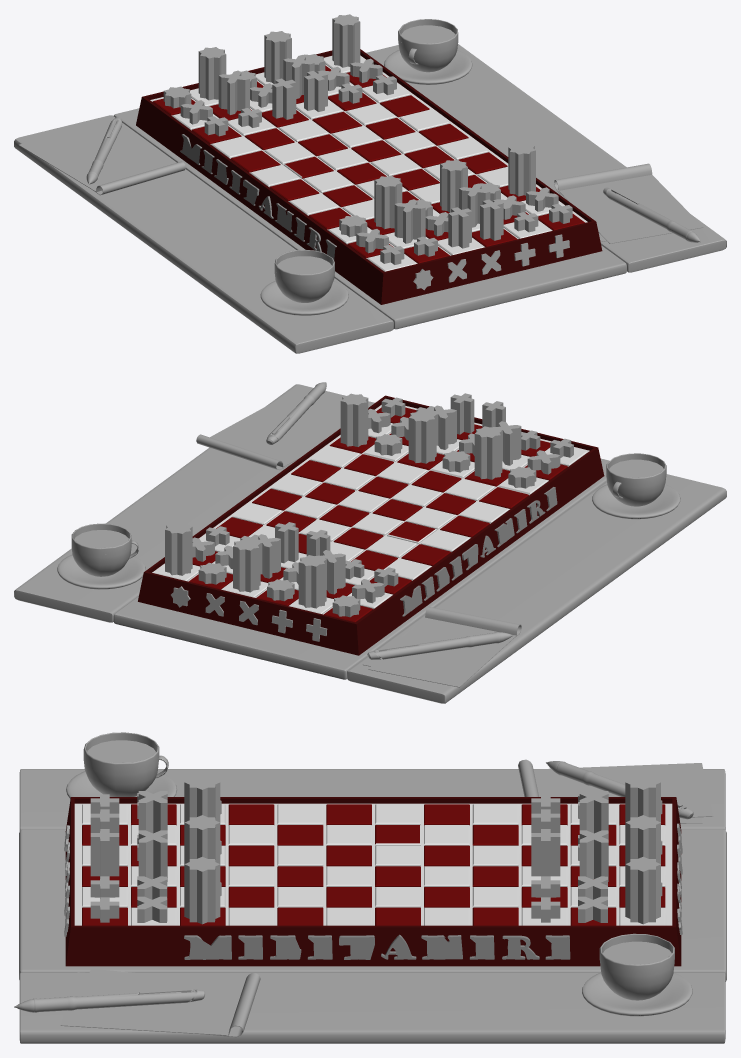
File: chessBoardv2.fbx
3 renders of one model, top to bottom at view 1: azimuth 30°, elevation 25°; view 2: azimuth 150°, elevation 25°; view 3: azimuth 270°, elevation 25°, orthographic. The views are drawn at different scales.
Parts seen in each view (by area): view 1: chess_board, table, notepad2, notepad1, cup, cup3, typeMesh3, Pawn_66L7, Pawn_66L4, Pawn_66L2, Pawn_66L5, Pawn_55L4 (+16 smaller); view 2: chess_board, table, notepad1, notepad2, cup3, cup, typeMesh3, pen2, Pawn_66L4, Pawn_66L5, Pawn_66L3, Pawn_66L2 (+21 smaller); view 3: chess_board, table, notepad2, typeMesh3, cup3, notepad1, cup, pen1, Pawn_66L4, Pawn_66L7, Pawn_66L3, Pawn_66L6 (+21 smaller).
Part boxes in pixels (box(x1,y1,x2,y2)): chess_board: box(136, 49, 602, 304); table: box(14, 44, 726, 353); notepad2: box(554, 163, 703, 243); notepad1: box(19, 120, 185, 195); cup: box(260, 249, 348, 315); cup3: box(384, 19, 472, 84); typeMesh3: box(180, 134, 336, 260); Pawn_66L7: box(332, 14, 360, 67); Pawn_66L4: box(508, 143, 535, 196); Pawn_66L2: box(374, 175, 402, 229); Pawn_66L5: box(198, 47, 226, 100); Pawn_55L4: box(218, 70, 249, 114); chess_board: box(138, 395, 604, 655); table: box(14, 384, 726, 703); notepad1: box(363, 606, 521, 687); notepad2: box(196, 395, 340, 470); cup3: box(57, 523, 145, 589); cup: box(592, 453, 680, 519); typeMesh3: box(400, 487, 557, 616); pen2: box(367, 632, 513, 659); Pawn_66L4: box(340, 393, 368, 446); Pawn_66L5: box(298, 555, 326, 608); Pawn_66L3: box(408, 410, 436, 463); Pawn_66L2: box(474, 426, 502, 479); chess_board: box(65, 797, 681, 966); table: box(19, 769, 726, 1043); notepad2: box(60, 968, 260, 1037); typeMesh3: box(184, 934, 570, 959); cup3: box(582, 933, 692, 1016); notepad1: box(518, 759, 712, 823); cup: box(66, 732, 176, 798); pen1: box(14, 989, 205, 1012); Pawn_66L4: box(184, 856, 220, 924); Pawn_66L7: box(625, 856, 660, 924); Pawn_66L3: box(184, 815, 220, 863); Pawn_66L6: box(625, 815, 660, 863).
Size of the model in its own units: 22.63 by 24.98 by 3.87.
